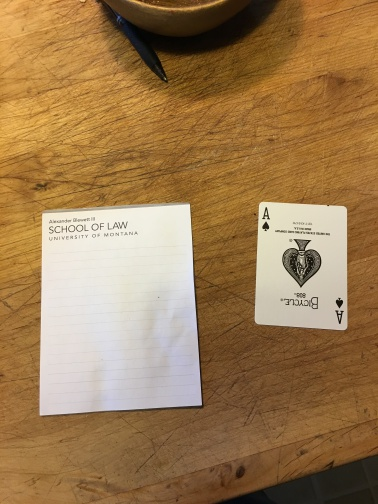ace: (255, 199, 351, 330)
